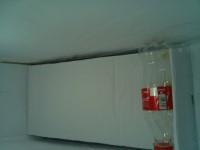bottle: (135, 38, 178, 150)
